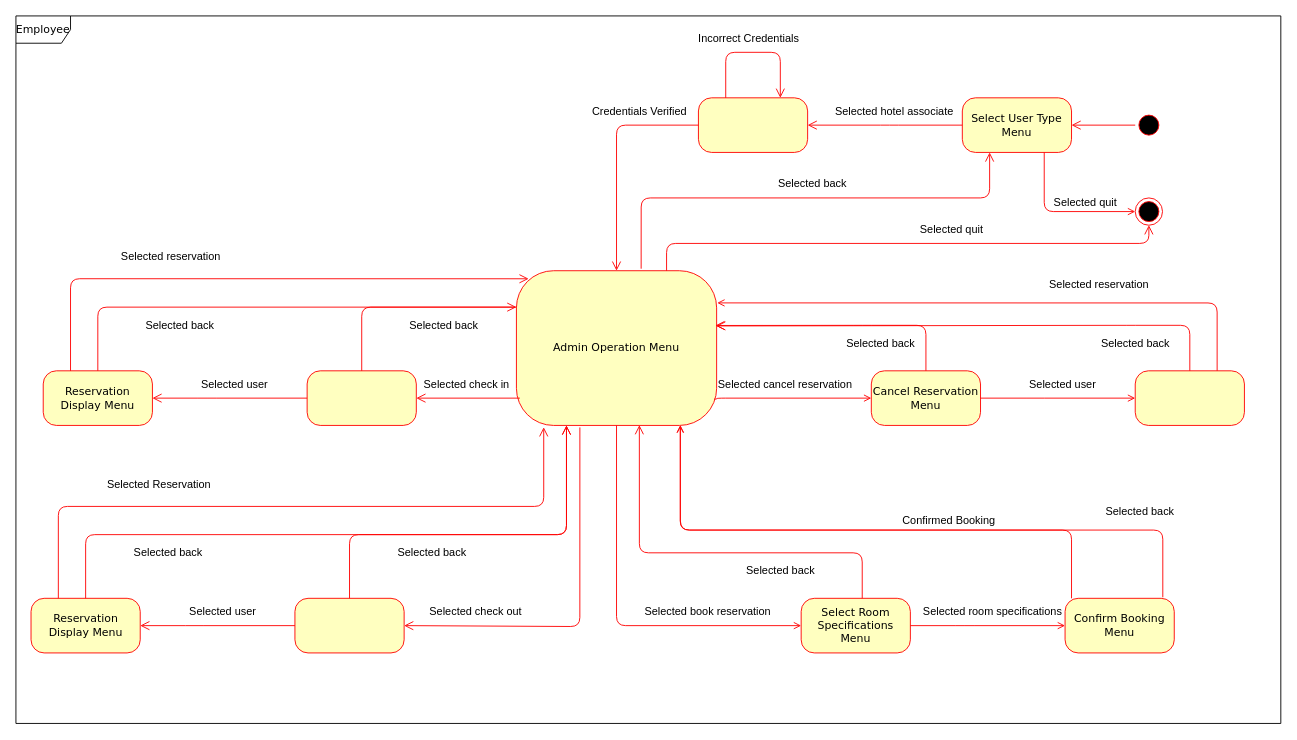
The diagram is 1297 pixels wide and 740 high, and some of its shapes have lost their labels. Here are the shapes that lost their labels. From the top down, the box of each, then its label:
(698, 97, 808, 152): Login Menu
(306, 370, 416, 425): Check In Menu
(1134, 370, 1244, 425): Reservation Menu
(294, 597, 404, 653): Check Out Menu
